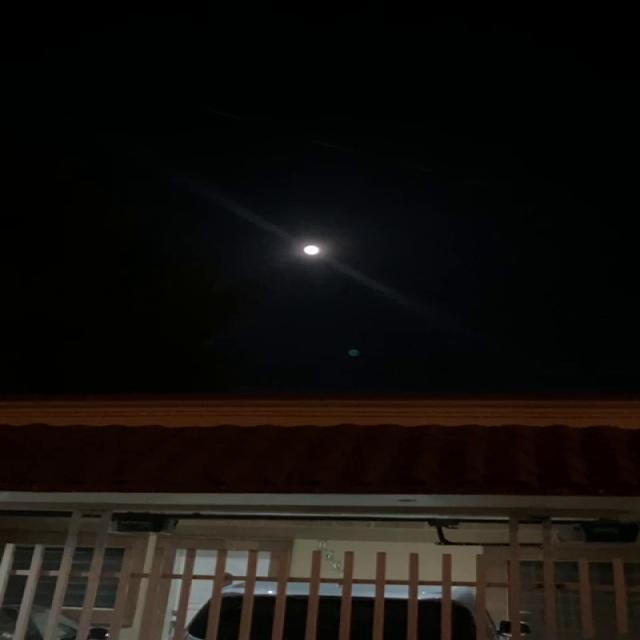moon: (293, 238, 335, 262)
